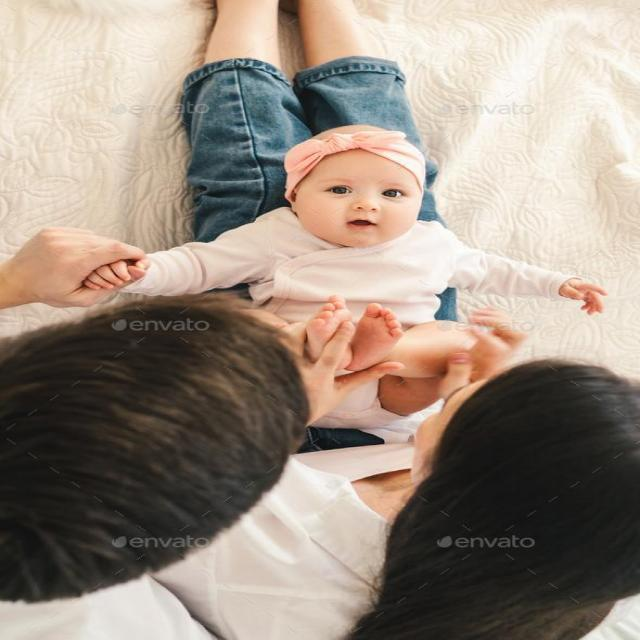child: (188, 124, 608, 363)
